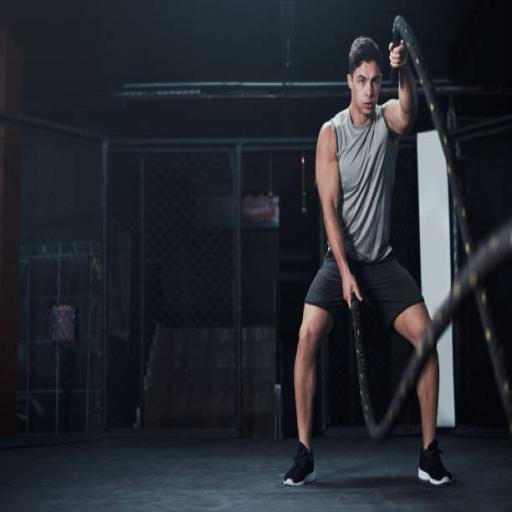Hardhat: (254, 90, 469, 414)
Mask: (274, 360, 314, 412), (402, 368, 447, 404)
Person: (330, 258, 362, 300), (377, 111, 404, 150)
Safety Cone: (344, 136, 380, 153)
Safety Vest: (339, 108, 381, 157)
machinery: (298, 154, 406, 265)
